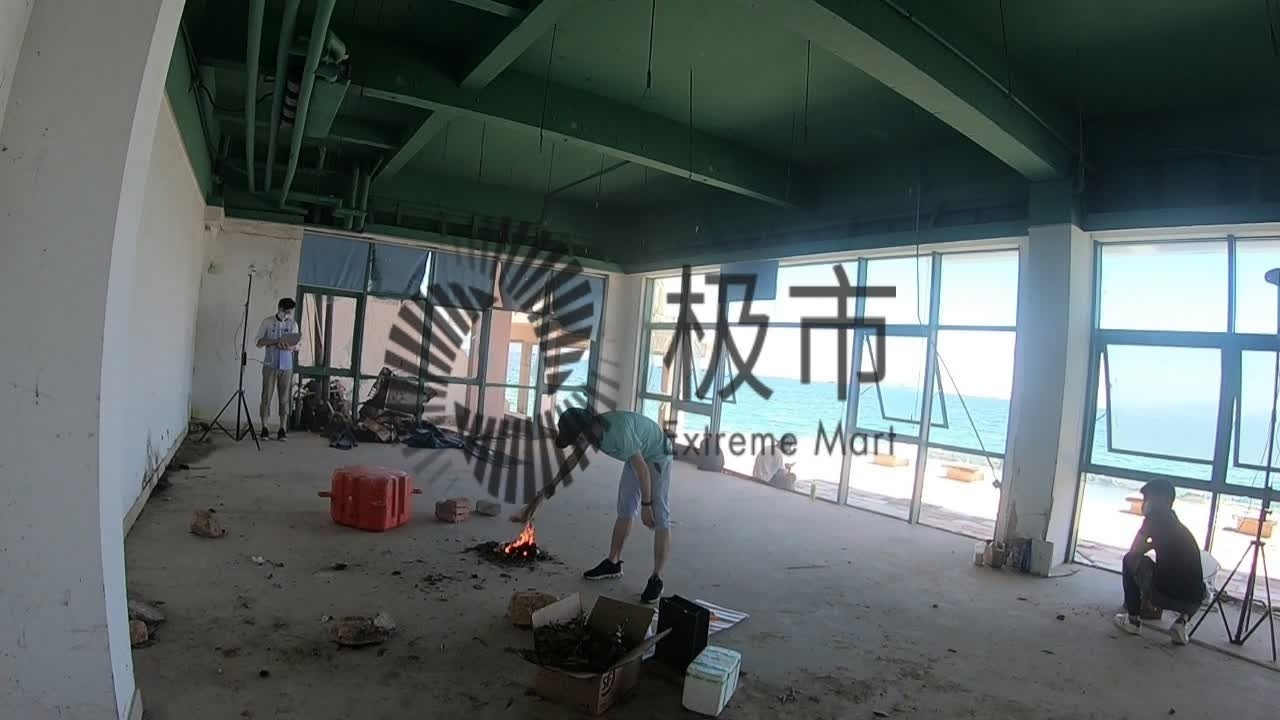fire: (497, 519, 538, 560)
